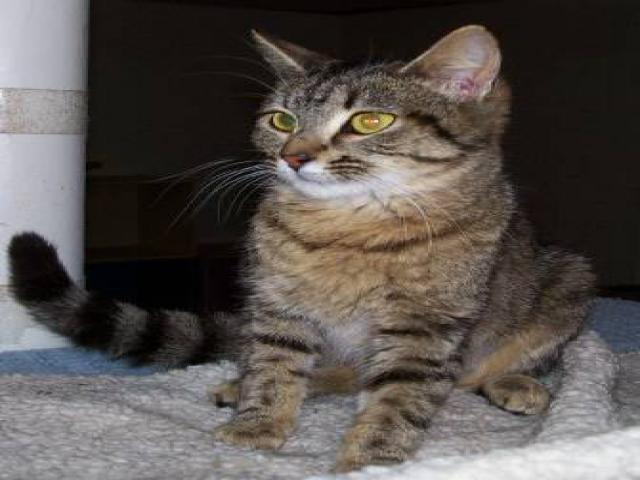cat: (123, 27, 599, 472)
